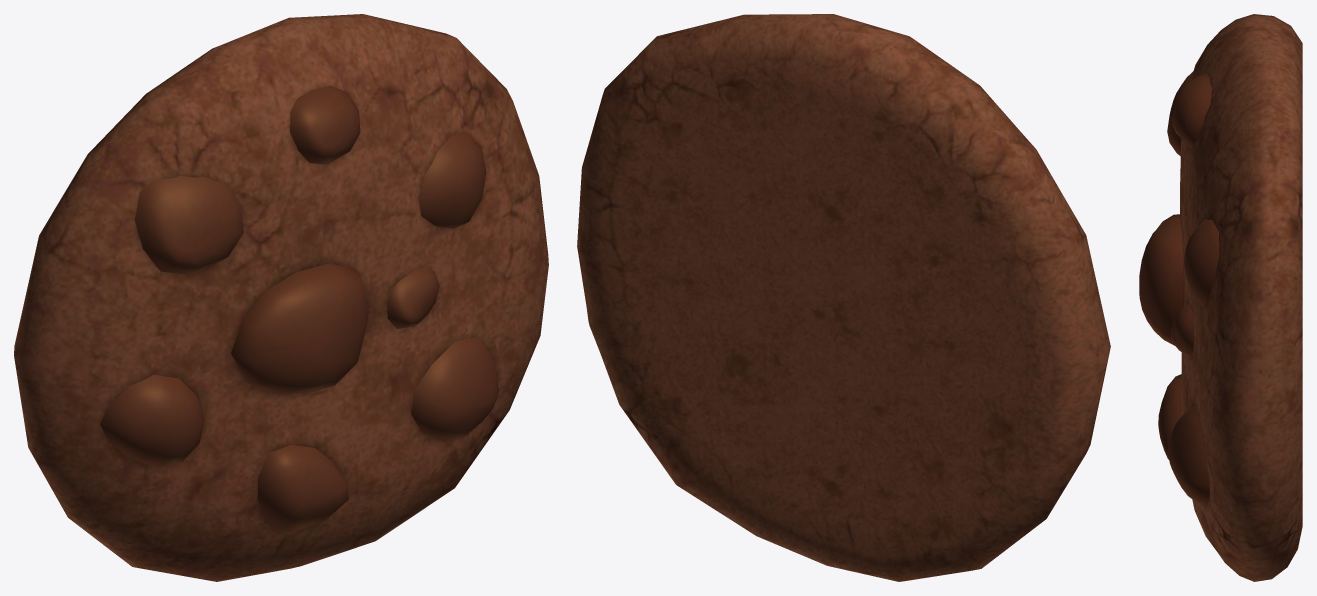
The model's file is 0-cookie_black.fbx.
3 views of the same model, side by side, from view 1: azimuth 30°, elevation 25°; view 2: azimuth 150°, elevation 25°; view 3: azimuth 270°, elevation 25° (orthographic). The views are drawn at different scales.
Visible parts, largest first — view 1: 0-cookie_black; view 2: 0-cookie_black; view 3: 0-cookie_black.
Boxes of the visible parts, bbox=[...] form: 0-cookie_black: bbox=[14, 14, 548, 581]; 0-cookie_black: bbox=[577, 14, 1110, 581]; 0-cookie_black: bbox=[1139, 14, 1302, 581].
Bounding box in the file's own units: 89.43 × 88.74 × 25.61.
